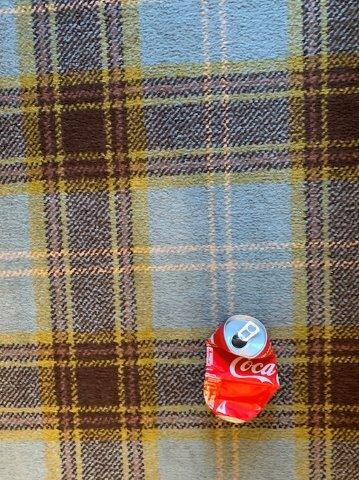kaleng: (205, 315, 279, 422)
